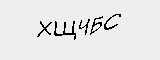Б: (90, 14, 103, 37)
С: (101, 12, 122, 33)
Х: (35, 17, 54, 41)
Ч: (78, 16, 90, 36)
Щ: (51, 19, 78, 39)
